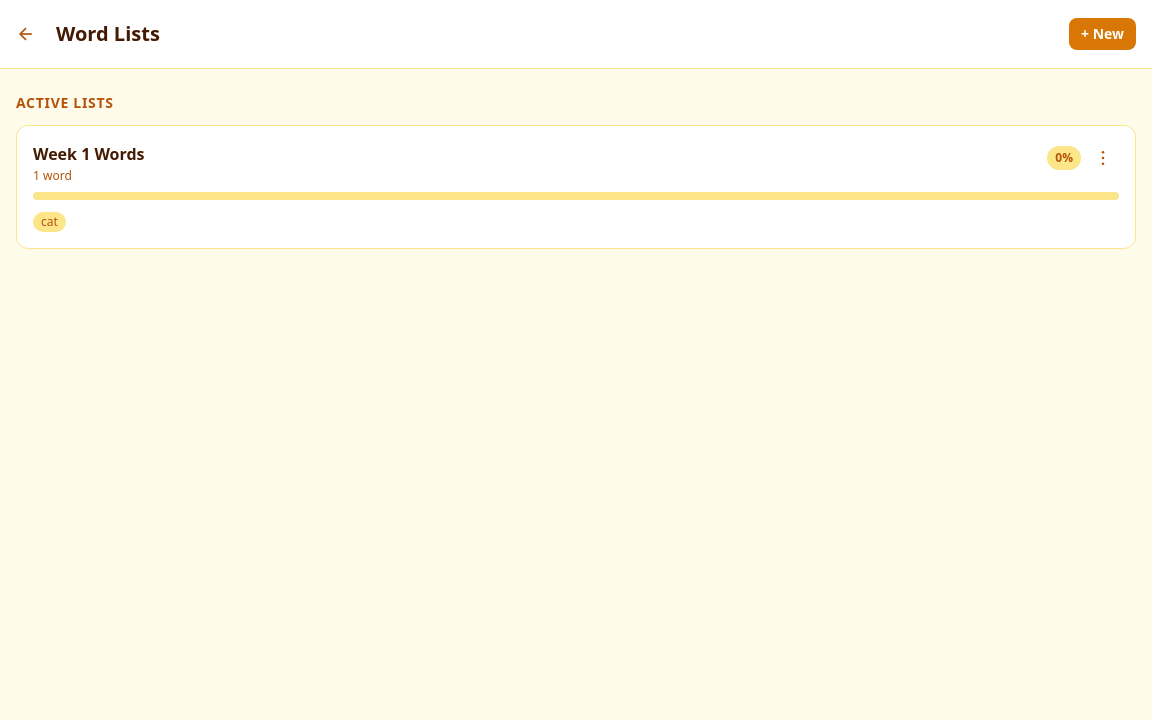
Test case: WordListsView edit/delete/archive › shows delete confirmation dialog before deleting
This screenshot has width=1152, height=720.
Open menu and click Delete
Step 1. Click the button named "Actions for Week 1 Words" → (1103, 158), box x1=1087 y1=142 x2=1119 y2=174
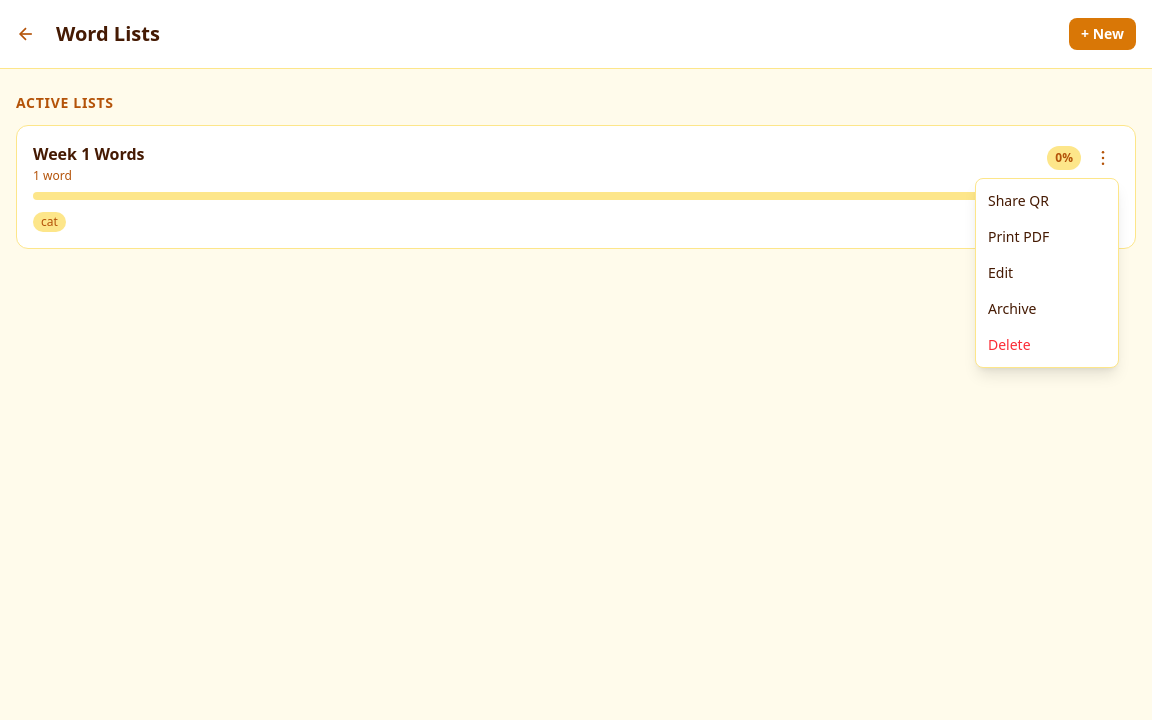
Step 2. Click the button "Delete" → (1047, 345), box x1=976 y1=327 x2=1118 y2=363
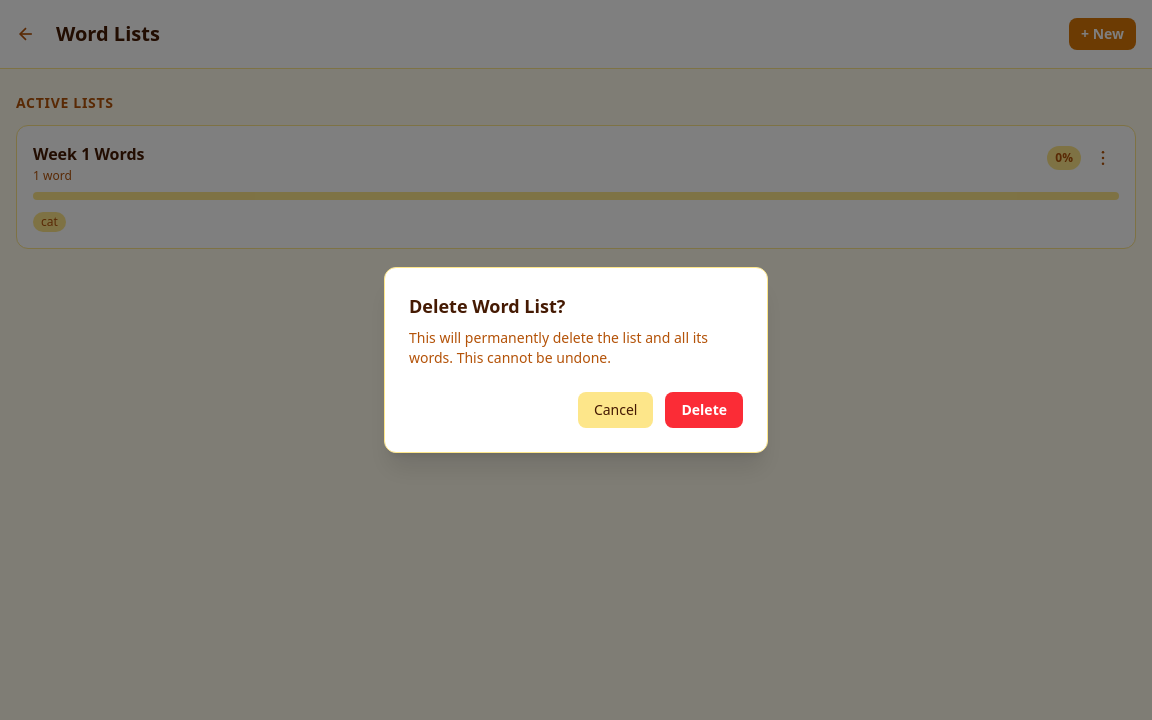
Expected: the element with test id "delete-confirm-dialog" is shown
Expected: the heading "Delete Word List?" is shown, x1=409 y1=294 x2=565 y2=318
